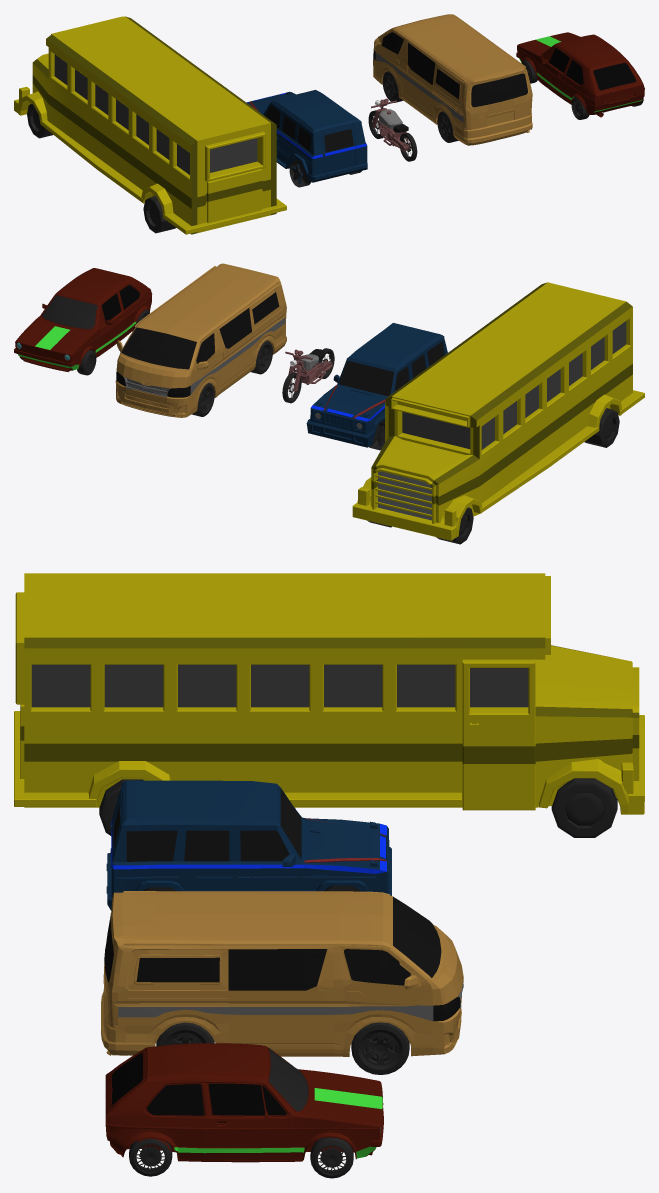
File: lagos car.fbx
3 views of the same model, one above another, from view 1: azimuth 30°, elevation 25°; view 2: azimuth 150°, elevation 25°; view 3: azimuth 270°, elevation 25° (orthographic). The views are drawn at different scales.
Visible parts, largest first — view 1: bus, front left wheel.002, Circle.005, bus.007, good car, bus.001, front left wheel.008, good car.008, Engine, bus.003, Circle.006, front left wheel.007 (+5 smaller); view 2: bus, front left wheel.002, Circle.005, good car, bus.007, bus.001, front left wheel.008, good car.008, bus.006, Circle.006, Engine, bus.003 (+5 smaller); view 3: bus, front left wheel.002, Circle.005, good car, bus.007, bus.001, front left wheel.008, good car.008, Circle.006, bus.002, front left wheel.007, front left wheel.001 (+5 smaller).
Part boxes in pixels (x1,y1,x2,y2): bus: (14, 16, 286, 234); front left wheel.002: (373, 14, 532, 145); Circle.005: (247, 90, 367, 183); bus.007: (32, 16, 276, 234); good car: (517, 32, 644, 117); bus.001: (54, 54, 257, 174); front left wheel.008: (382, 32, 527, 107); good car.008: (543, 47, 635, 90); Engine: (371, 98, 411, 151); bus.003: (143, 196, 176, 233); Circle.006: (324, 129, 353, 152); front left wheel.007: (375, 52, 463, 122); bus: (352, 282, 644, 540); front left wheel.002: (115, 263, 286, 417); Circle.005: (306, 323, 447, 447); good car: (15, 268, 152, 371); bus.007: (371, 282, 632, 505); bus.001: (402, 321, 626, 449); front left wheel.008: (121, 292, 279, 369); good car.008: (42, 285, 139, 328); bus.006: (378, 471, 431, 520); Circle.006: (339, 360, 394, 396); Engine: (285, 349, 332, 391); bus.003: (584, 408, 619, 447); bus: (14, 573, 644, 814); front left wheel.002: (101, 891, 463, 1056); Circle.005: (106, 780, 391, 910); good car: (105, 1043, 383, 1162); bus.007: (20, 637, 639, 764); bus.001: (31, 664, 528, 707); front left wheel.008: (104, 896, 441, 990); good car.008: (111, 1049, 308, 1115); Circle.006: (113, 789, 301, 861); bus.002: (551, 778, 617, 837); front left wheel.007: (118, 1005, 433, 1021); front left wheel.001: (351, 1022, 409, 1074).
Bounding box in the file's own units: 8608 × 1819 × 5333.
